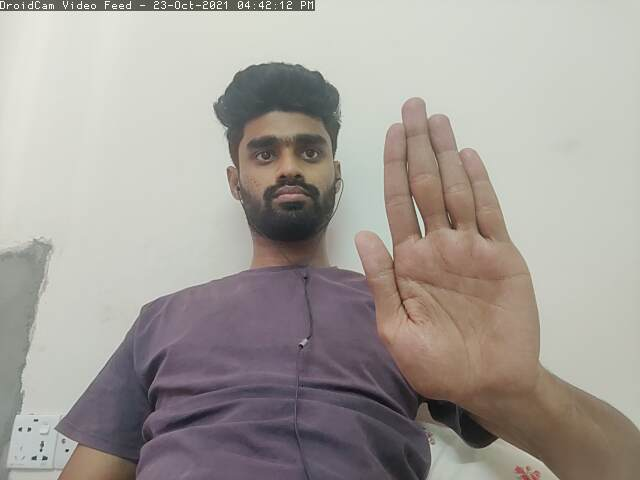Stop: (349, 94, 554, 405)
